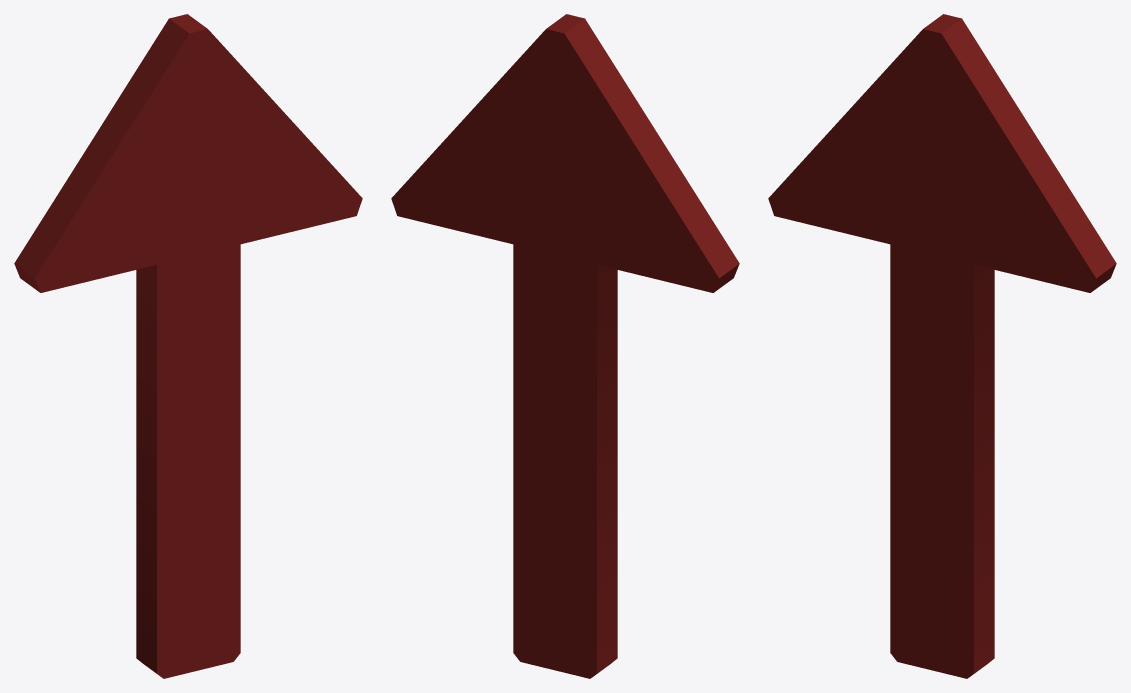
The model's file is SA_Arrow_M.fbx.
3 renders of one model, left to right at view 1: azimuth 30°, elevation 25°; view 2: azimuth 150°, elevation 25°; view 3: azimuth 330°, elevation 25°, orthographic.
Parts seen in each view (by area): view 1: SA_Arrow_M; view 2: SA_Arrow_M; view 3: SA_Arrow_M.
Boxes of the visible parts, x1,y1,x2,y2 form: SA_Arrow_M: [14, 14, 362, 678]; SA_Arrow_M: [391, 14, 739, 678]; SA_Arrow_M: [768, 14, 1116, 678].
Bounding box in the file's own units: 0.982 × 1.83 × 0.1063.
